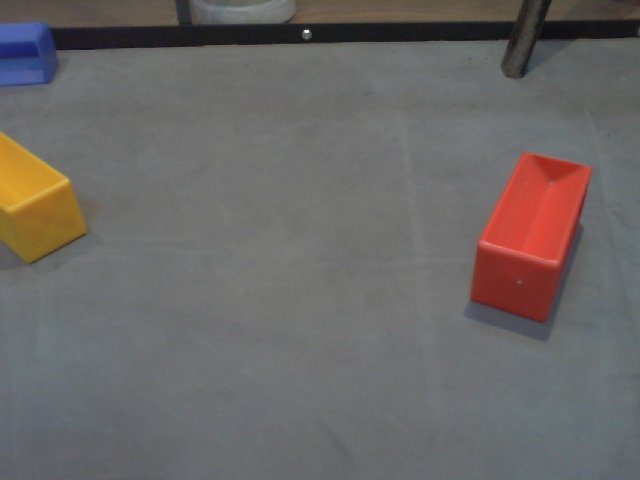BlueSample: (1, 20, 60, 89)
RedSample: (463, 148, 595, 330)
YellowSample: (1, 128, 87, 273)
